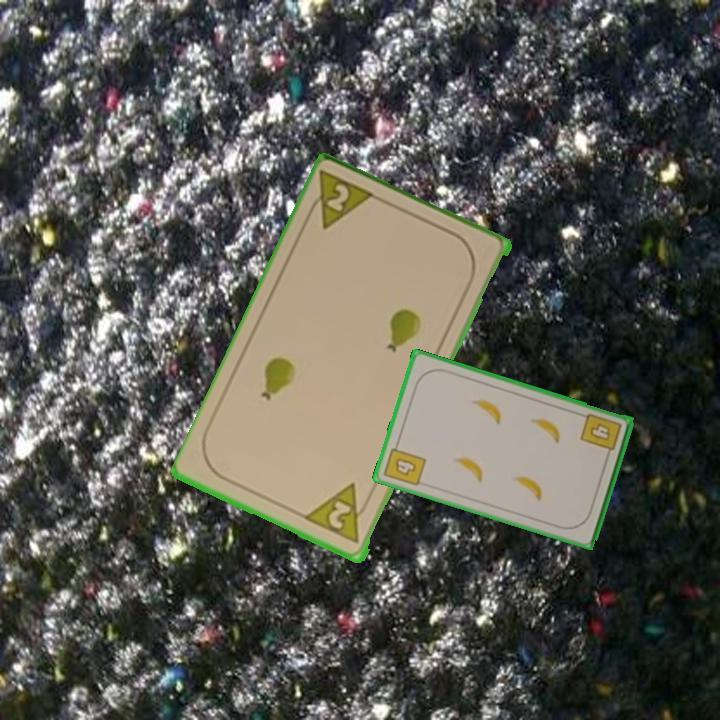2p: (301, 167, 381, 234), (303, 480, 374, 548)
4b: (380, 438, 429, 489), (577, 410, 624, 461)
